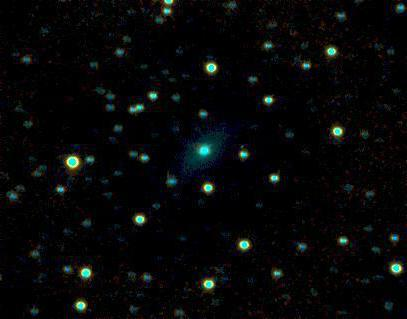star: (229, 134, 259, 164)
